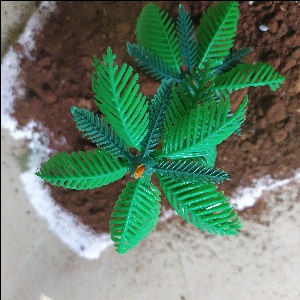plant: (41, 2, 254, 230)
